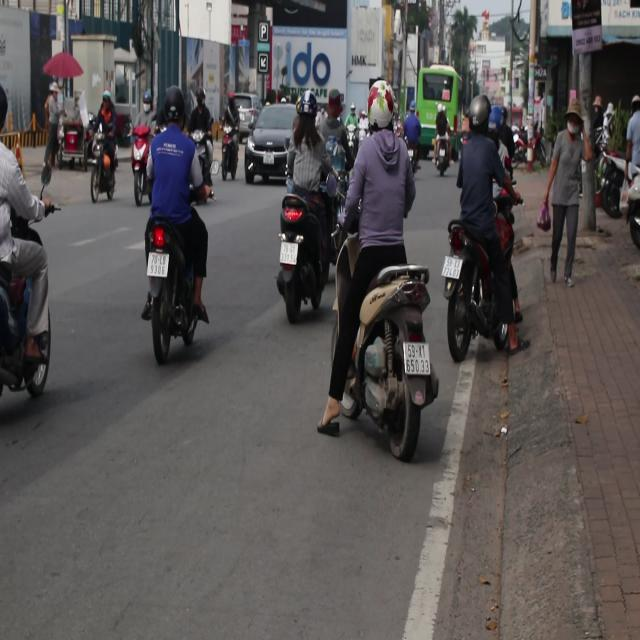bus: (419, 64, 463, 136)
car: (242, 107, 296, 187), (227, 93, 261, 132)
motorbike: (316, 239, 430, 456), (434, 209, 537, 403), (143, 209, 220, 390), (0, 202, 65, 389), (276, 183, 333, 323), (88, 129, 120, 228), (185, 123, 215, 204), (596, 150, 626, 221), (132, 125, 152, 212), (218, 126, 242, 190), (398, 123, 422, 182), (432, 126, 452, 177), (350, 117, 360, 156)
